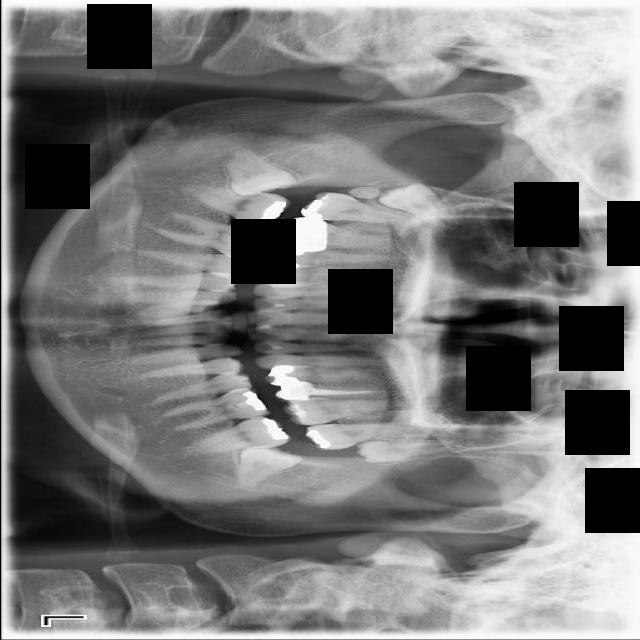3M ESPE Implant: (376, 172, 467, 233)
52: (229, 183, 293, 240), (209, 210, 269, 268), (234, 403, 292, 462), (216, 378, 270, 433), (276, 213, 328, 254), (282, 391, 333, 432), (299, 190, 359, 222), (302, 422, 351, 453), (266, 244, 321, 269), (260, 263, 313, 288), (264, 365, 310, 385), (273, 381, 313, 402), (247, 325, 291, 343), (253, 338, 293, 355), (252, 297, 293, 312)
73: (308, 383, 393, 403), (71, 608, 80, 616)
BioHorizons Implant: (304, 418, 442, 451)
BioLife Implant: (354, 438, 458, 463)
Biomet 3i Implant: (225, 426, 304, 491)
Blue Sky Bio Implant: (175, 412, 293, 462)
Caries: (298, 190, 422, 229)
Implant: (177, 182, 291, 231)
Keystone Dental Implant: (210, 139, 299, 219)
